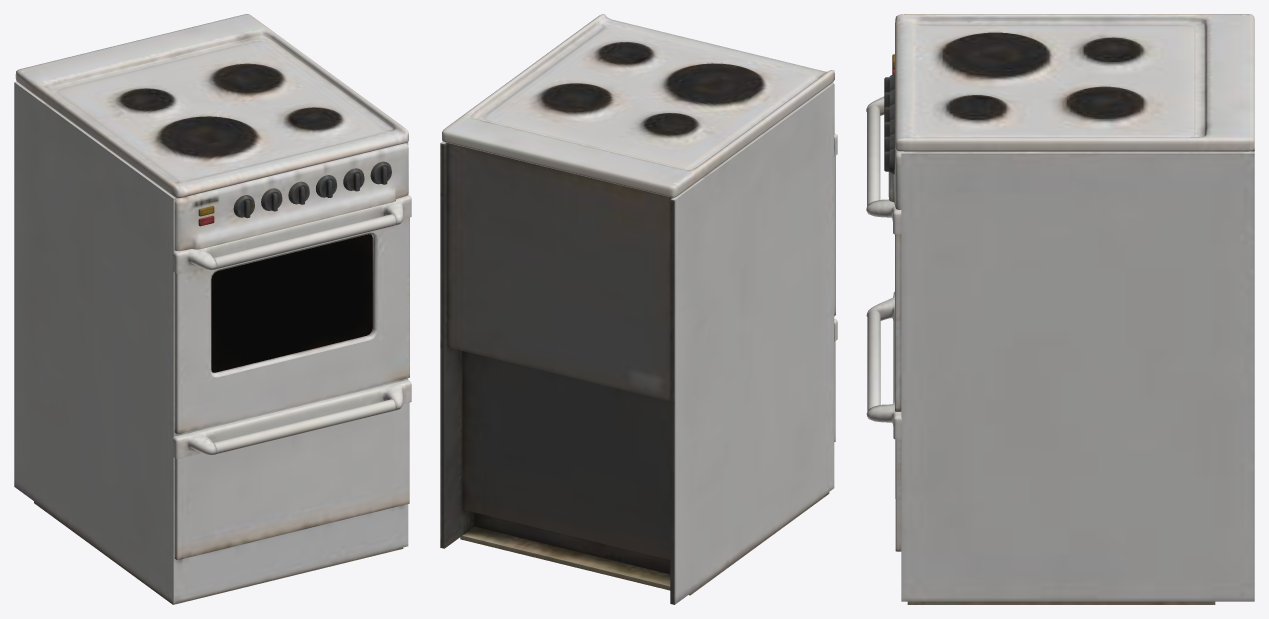
The model's file is ph_electric_stove.glb.
3 views of the same model, side by side, from view 1: azimuth 30°, elevation 25°; view 2: azimuth 150°, elevation 25°; view 3: azimuth 270°, elevation 25° (orthographic). The views are drawn at different scales.
Parts seen in each view (by area): view 1: stovetop; view 2: stovetop; view 3: stovetop.
Boxes of the visible parts, x1,y1,x2,y2 form: stovetop: (14,14,411,604); stovetop: (440,14,837,604); stovetop: (866,14,1254,604).
Size of the model in its own units: 0.5026 by 0.8587 by 0.6476.
Materials: 2 (2 with a texture image).
